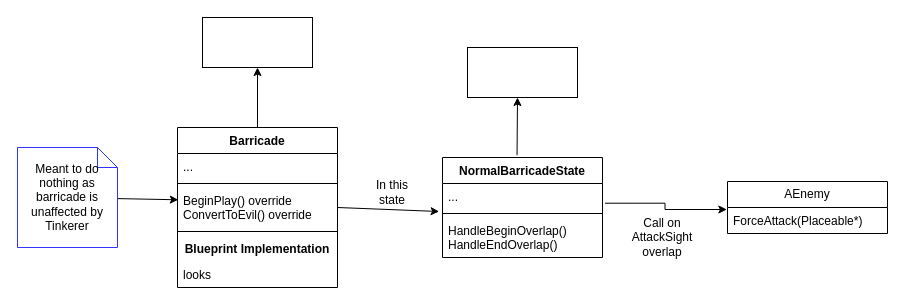
Image size: 905x308. Some labels were removed from this diagram. Each missing label, with the centre of its shape:
"TrapPlaceable" goes at point 257,42.
"TrapStateInterface" goes at point 522,72.
